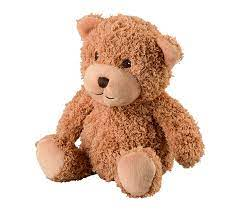teddy: (29, 8, 218, 201)
